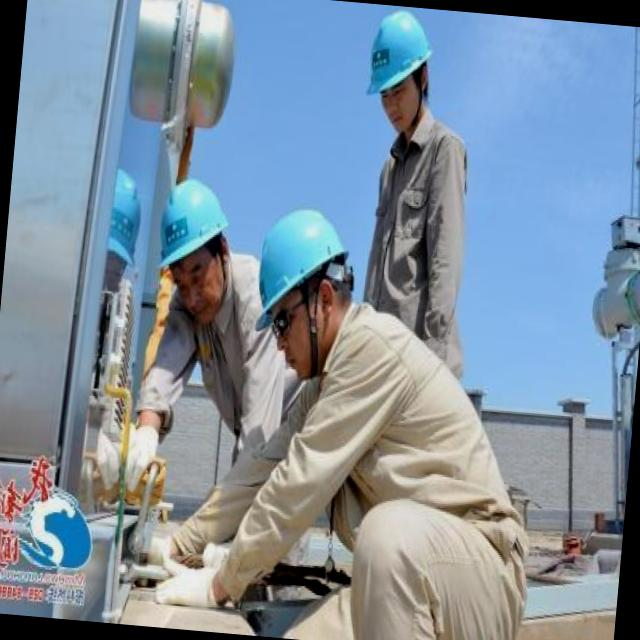helmet: (247, 206, 354, 340), (150, 178, 236, 284), (360, 11, 436, 112)
